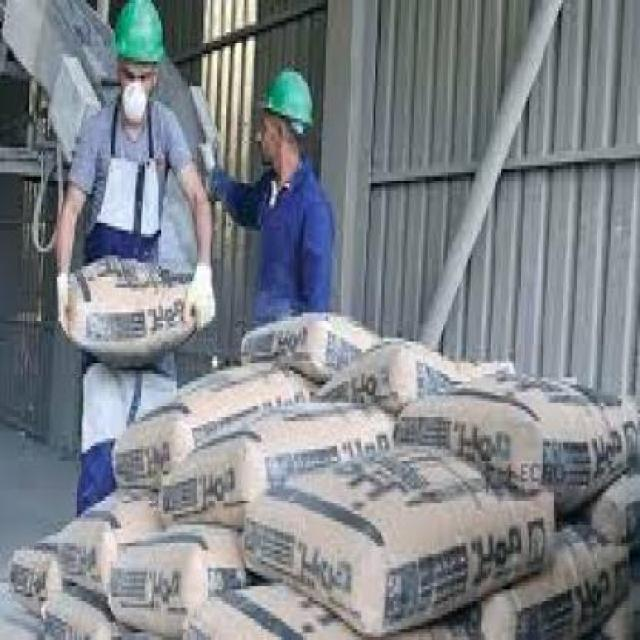gunny_bag: (248, 504, 382, 613), (403, 412, 545, 486), (500, 581, 640, 640), (74, 296, 194, 352), (114, 548, 198, 614), (203, 600, 340, 640), (48, 538, 121, 600), (163, 479, 251, 508), (244, 326, 320, 359), (47, 607, 120, 640), (110, 440, 184, 472), (12, 555, 48, 608), (603, 496, 640, 544), (334, 370, 404, 392)
